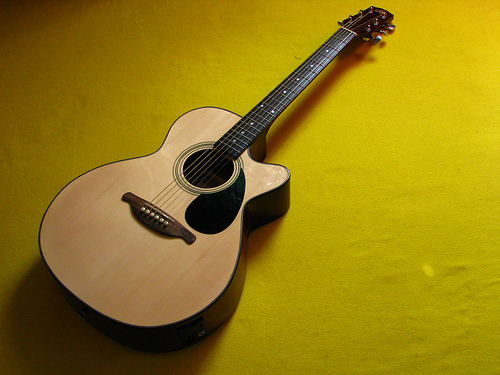guitar: (40, 2, 397, 355)
